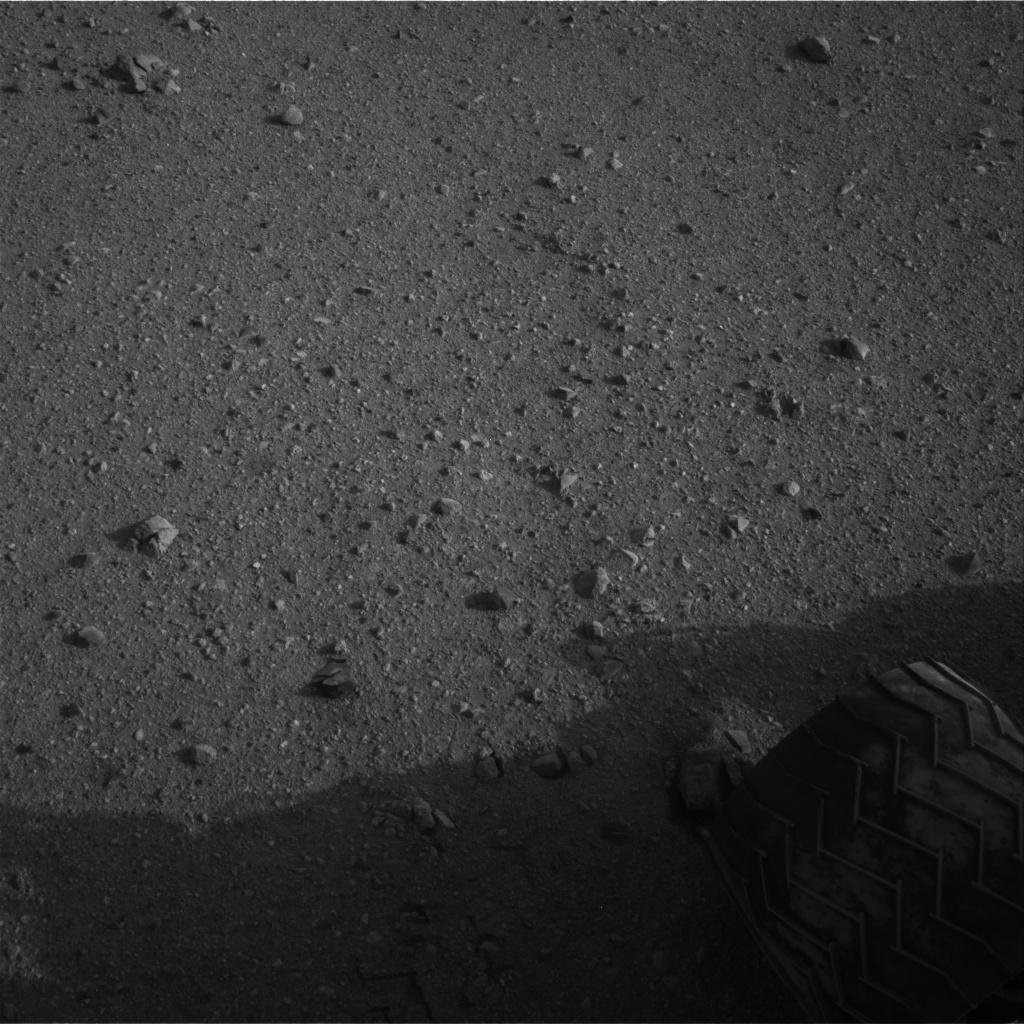soil: (3, 7, 1015, 1013)
